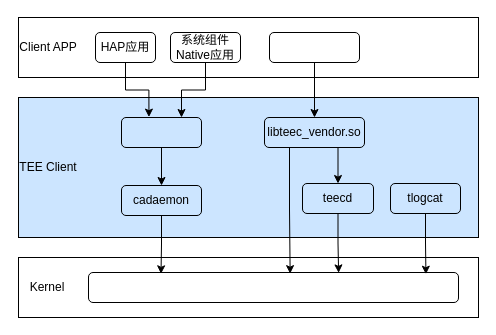
This 496x335 diagram has some shape labels left out. The centre of each missing label's shape, as x and y in pixels:
"libteec.so" goes at [161,132].
"Tzdriver （TrustZone驱动）" goes at [273,287].
"芯片组件 Native应用" goes at [314,47].
